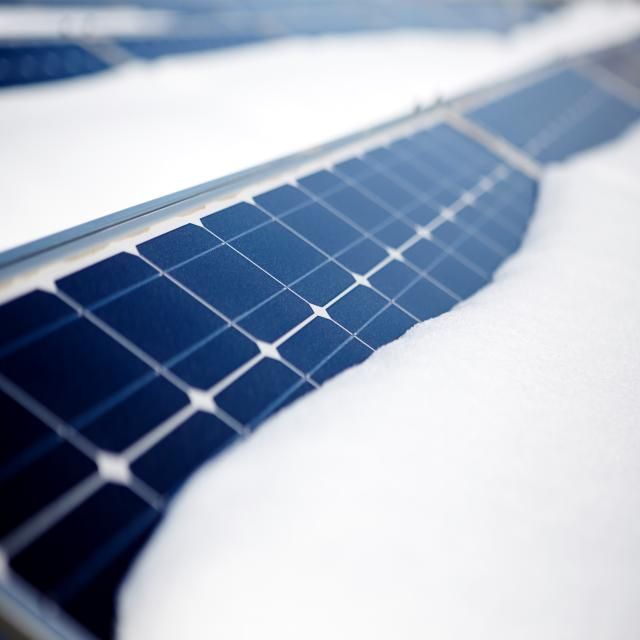panel: (108, 364, 282, 640), (314, 258, 466, 458), (212, 394, 390, 524), (512, 84, 611, 291), (404, 282, 544, 396), (260, 87, 498, 147), (142, 111, 256, 227), (508, 170, 602, 304), (0, 157, 129, 252)
